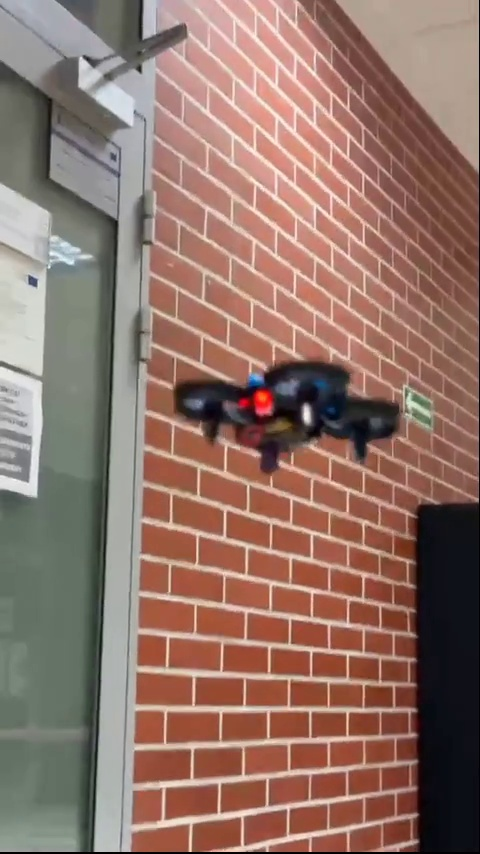drone: (177, 354, 394, 478)
